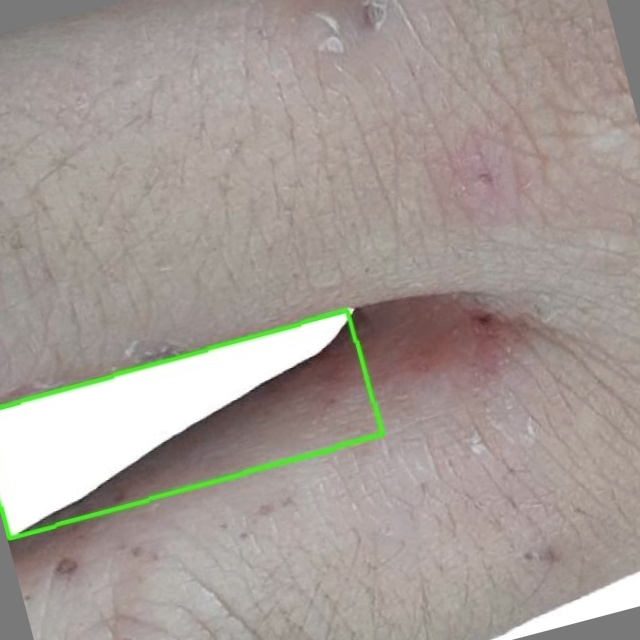Scabies: (0, 310, 381, 537)
